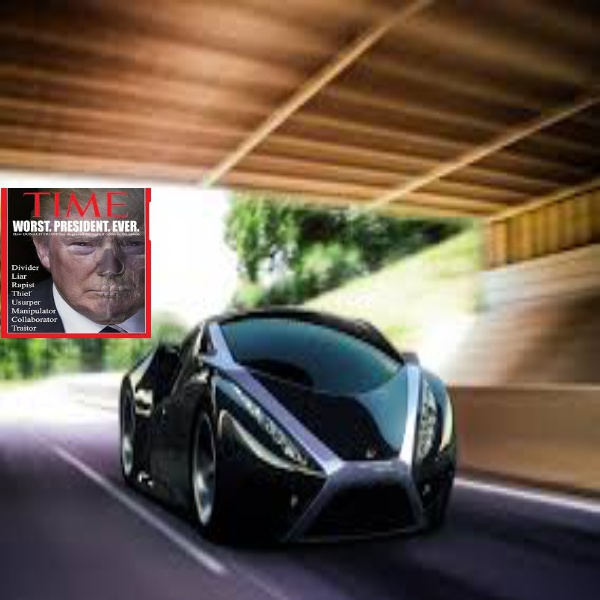time_cover: (4, 185, 146, 345)
